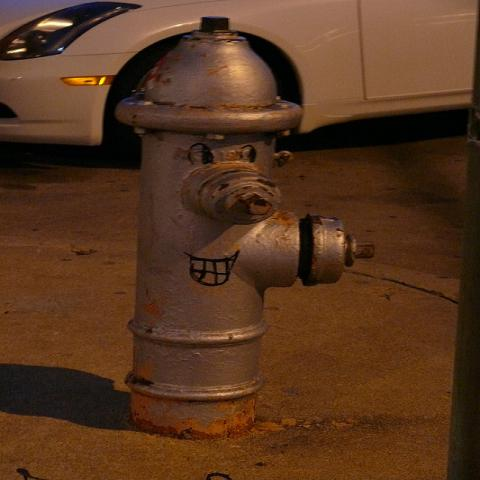car: (1, 0, 479, 145)
